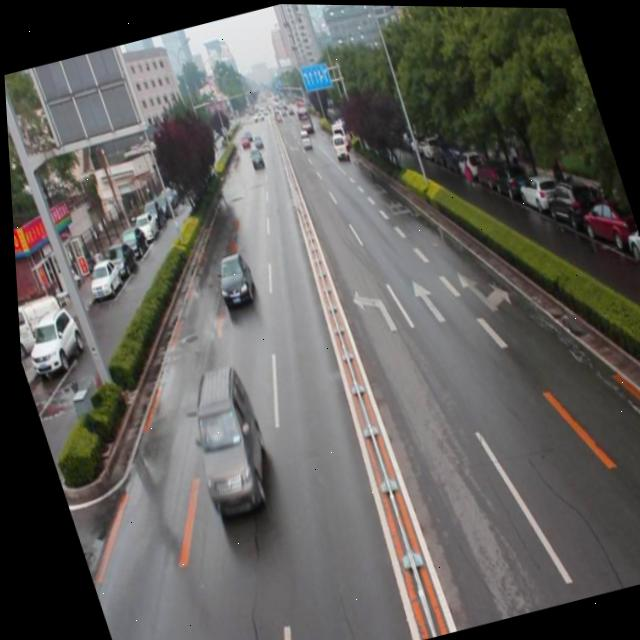car: (205, 249, 256, 309), (244, 145, 263, 169)
truck: (165, 360, 279, 521), (327, 132, 349, 162)
